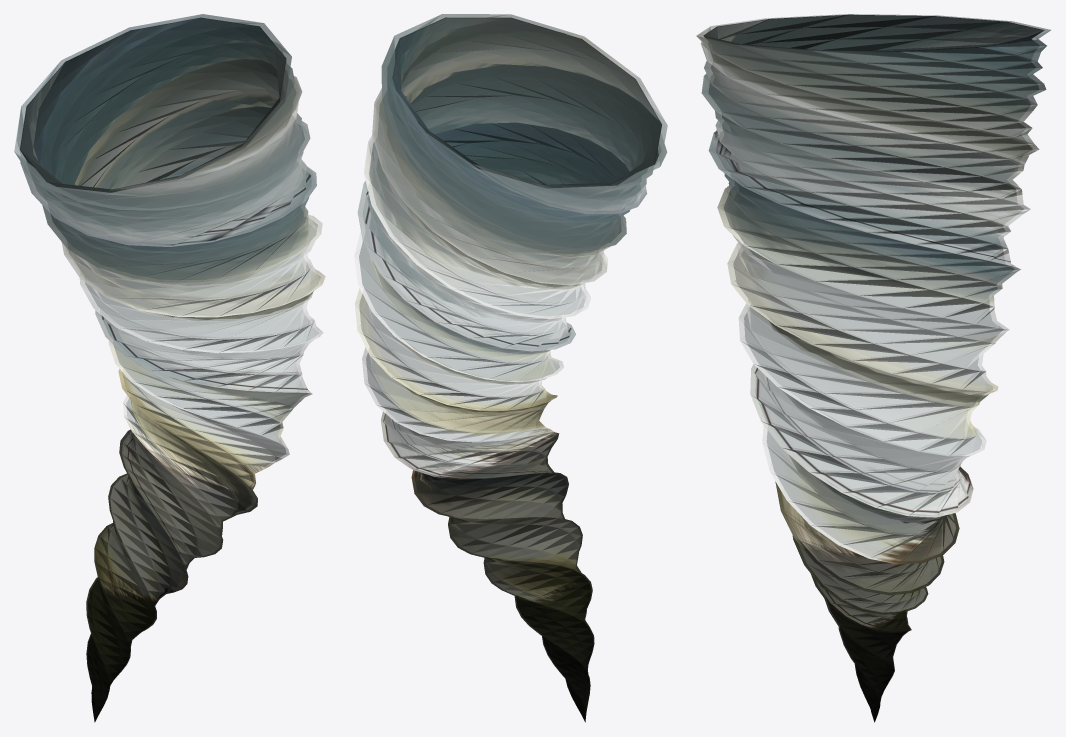
The model's file is fire_tornado.obj.
The picture shows the model from 3 angles, left to right: view 1: azimuth 30°, elevation 25°; view 2: azimuth 150°, elevation 25°; view 3: azimuth 270°, elevation 25°; orthographic projection. The views are drawn at different scales.
Parts seen in each view (by area): view 1: obj1, obj2, obj3; view 2: obj1, obj2, obj3; view 3: obj2, obj1, obj3.
Part boxes in pixels (x1=…): obj1: x1=20, y1=17, x2=320, y2=721; obj2: x1=14, y1=14, x2=325, y2=721; obj3: x1=14, y1=14, x2=325, y2=720; obj1: x1=359, y1=17, x2=661, y2=721; obj2: x1=354, y1=14, x2=667, y2=721; obj3: x1=354, y1=14, x2=667, y2=721; obj2: x1=696, y1=14, x2=1050, y2=721; obj1: x1=703, y1=14, x2=1044, y2=721; obj3: x1=697, y1=14, x2=1050, y2=721.
Size of the model in its own units: 1.42 by 3.15 by 1.31.
